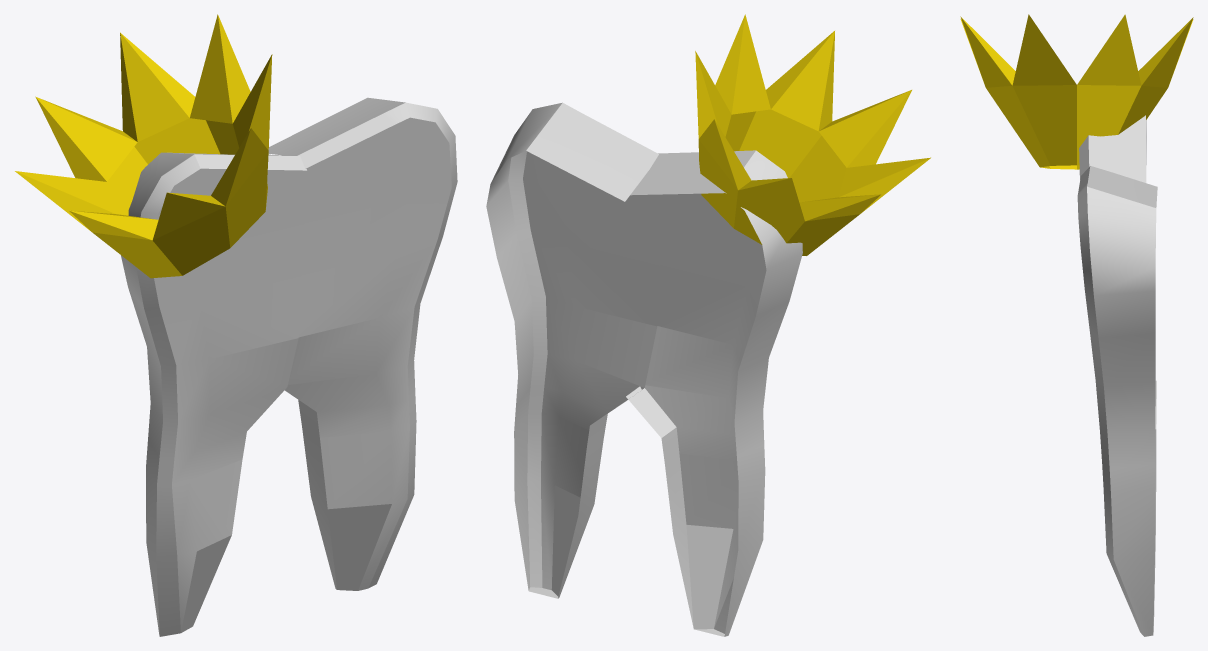
The model's file is tooth.fbx.
3 renders of one model, left to right at view 1: azimuth 30°, elevation 25°; view 2: azimuth 150°, elevation 25°; view 3: azimuth 270°, elevation 25°, orthographic. The views are drawn at different scales.
Parts seen in each view (by area): view 1: pCube3, pCylinder1; view 2: pCube3, pCylinder1; view 3: pCube3, pCylinder1.
Boxes of the visible parts, left/top/right/bottom form: pCube3: left=121, top=97, right=457, bottom=636; pCylinder1: left=15, top=14, right=272, bottom=278; pCube3: left=486, top=102, right=802, bottom=636; pCylinder1: left=695, top=14, right=930, bottom=255; pCube3: left=1077, top=115, right=1157, bottom=636; pCylinder1: left=960, top=14, right=1193, bottom=169.
Bounding box in the file's own units: 1.64 × 2.29 × 0.8802.
